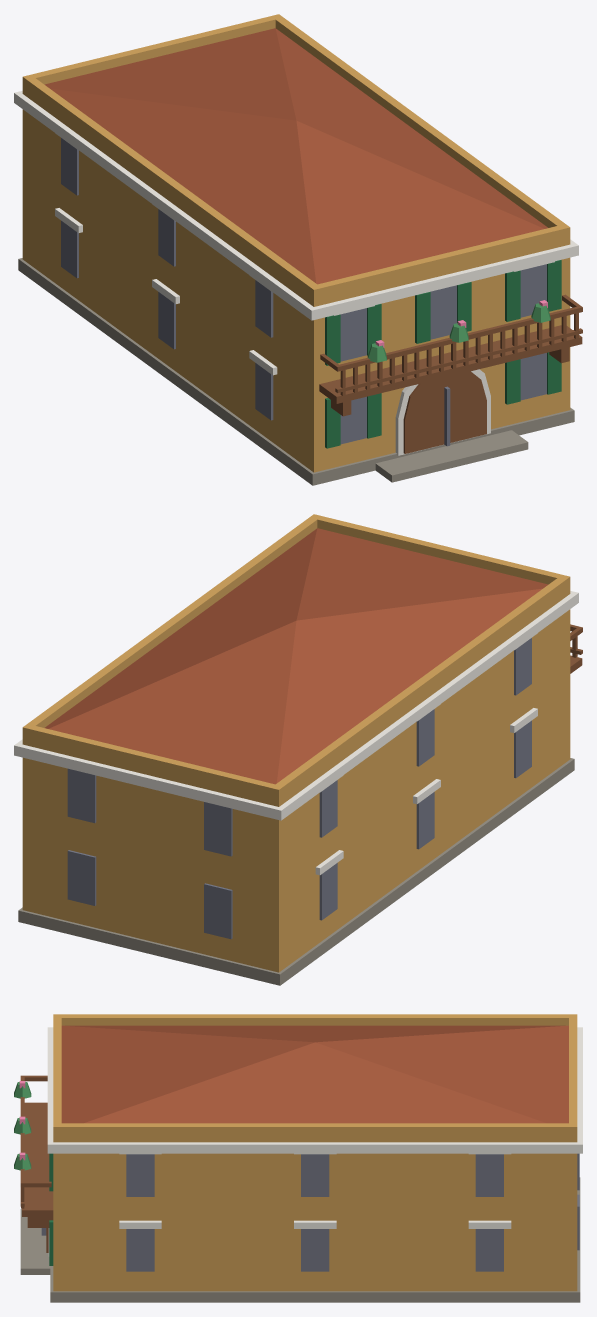
File: house-1x2-2f-colonial-a.glb
The picture shows the model from 3 angles, top to bottom: view 1: azimuth 30°, elevation 25°; view 2: azimuth 150°, elevation 25°; view 3: azimuth 270°, elevation 25°; orthographic projection. The views are drawn at different scales.
Visible parts, largest first — view 1: house-1x2-2f-colonial-a; view 2: house-1x2-2f-colonial-a; view 3: house-1x2-2f-colonial-a.
Part boxes in pixels (box(x1,y1,x2,y2)): house-1x2-2f-colonial-a: box(14, 14, 582, 485); house-1x2-2f-colonial-a: box(14, 514, 582, 985); house-1x2-2f-colonial-a: box(14, 1014, 582, 1302).
Bounding box in the file's own units: 0.98 × 0.79 × 2.01.
1 material, 1 textured.
